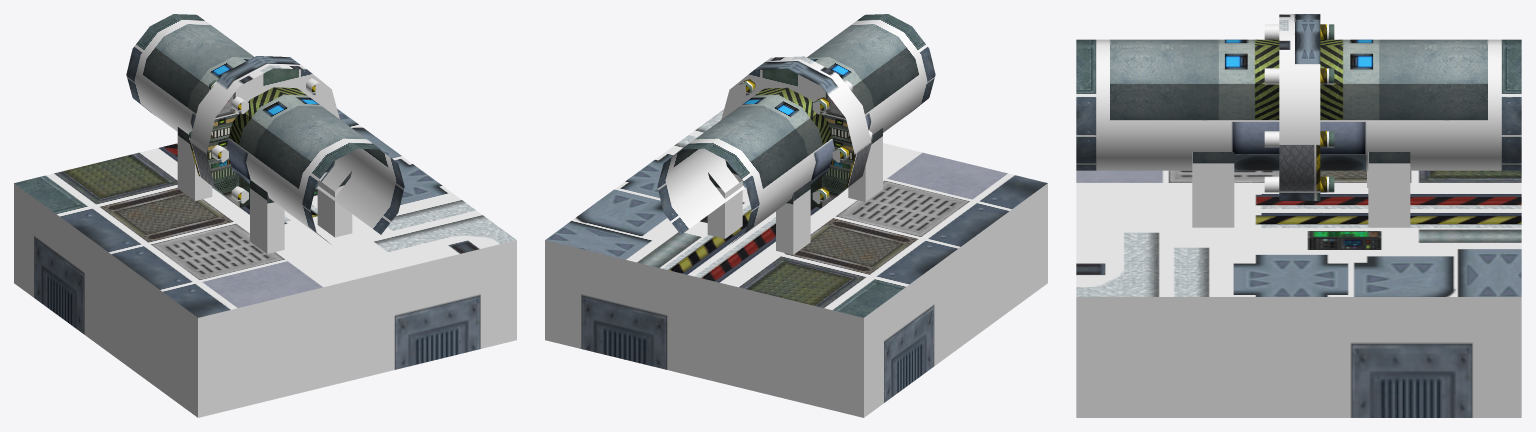
The model's file is ind_tile_pipe_join_leak.obj.
3 renders of one model, left to right at view 1: azimuth 30°, elevation 25°; view 2: azimuth 150°, elevation 25°; view 3: azimuth 270°, elevation 25°, orthographic. The views are drawn at different scales.
Parts seen in each view (by area): view 1: tile_boundary05; view 2: tile_boundary05; view 3: tile_boundary05.
Boxes of the visible parts, bbox=[...] form: tile_boundary05: bbox=[14, 14, 516, 417]; tile_boundary05: bbox=[545, 14, 1047, 417]; tile_boundary05: bbox=[1076, 14, 1521, 417].
Size of the model in its own units: 1 by 0.7476 by 1.
Materials: 1 (1 with a texture image).
